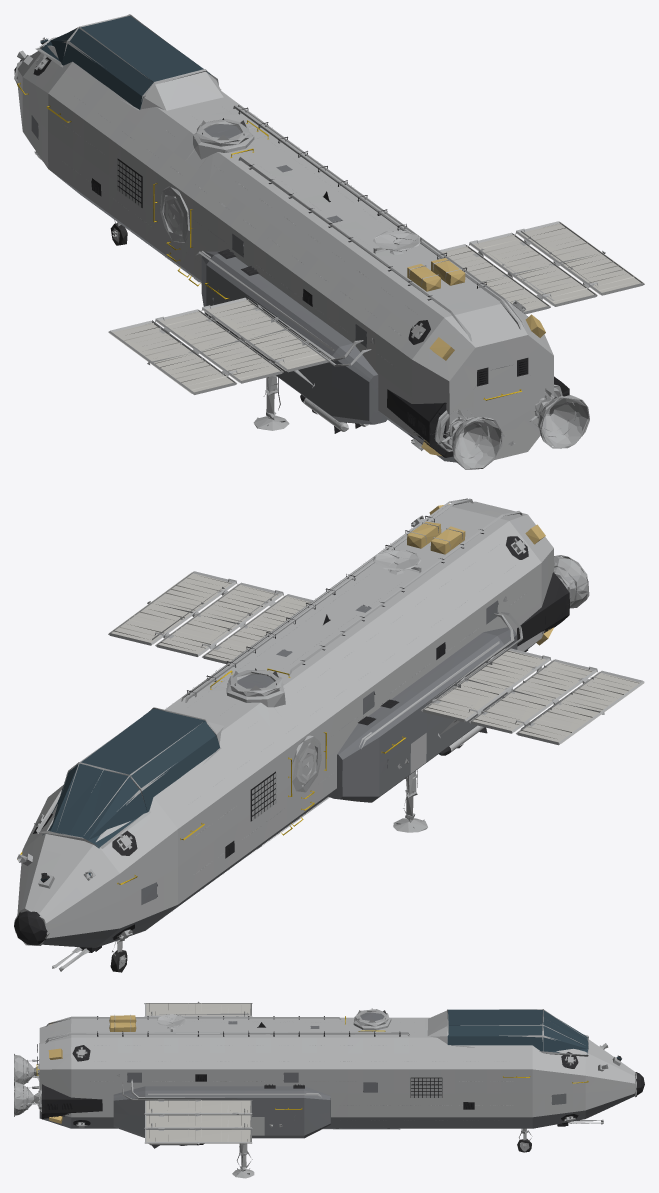
The model's file is kestrel_lod1.glb.
3 renders of one model, top to bottom at view 1: azimuth 30°, elevation 25°; view 2: azimuth 150°, elevation 25°; view 3: azimuth 270°, elevation 25°, orthographic. The views are drawn at different scales.
Parts seen in each view (by area): view 1: Kestrel_LOD1; view 2: Kestrel_LOD1; view 3: Kestrel_LOD1.
Part boxes in pixels (<box>): Kestrel_LOD1: <box>14,14,644,469</box>; Kestrel_LOD1: <box>14,498,644,972</box>; Kestrel_LOD1: <box>14,1001,644,1178</box>.
Bounding box in the file's own units: 12.64 × 5.65 × 23.8.
